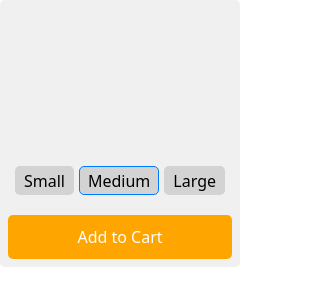
Scenario: BrowseItem › disables the add button after adding
Click the button "Add to Cart".
click(120, 237)  # box [8,215,232,259]
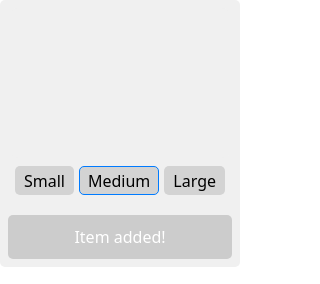
Check: the button "Add to Cart" is disabled, box [8,215,232,259]
